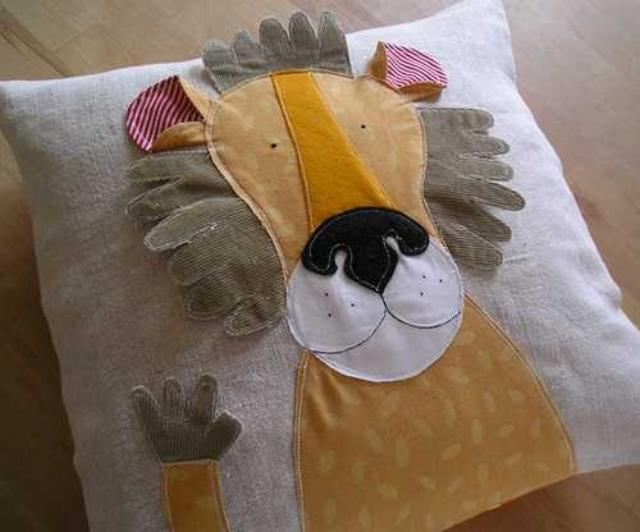pillow: (0, 0, 638, 532)
